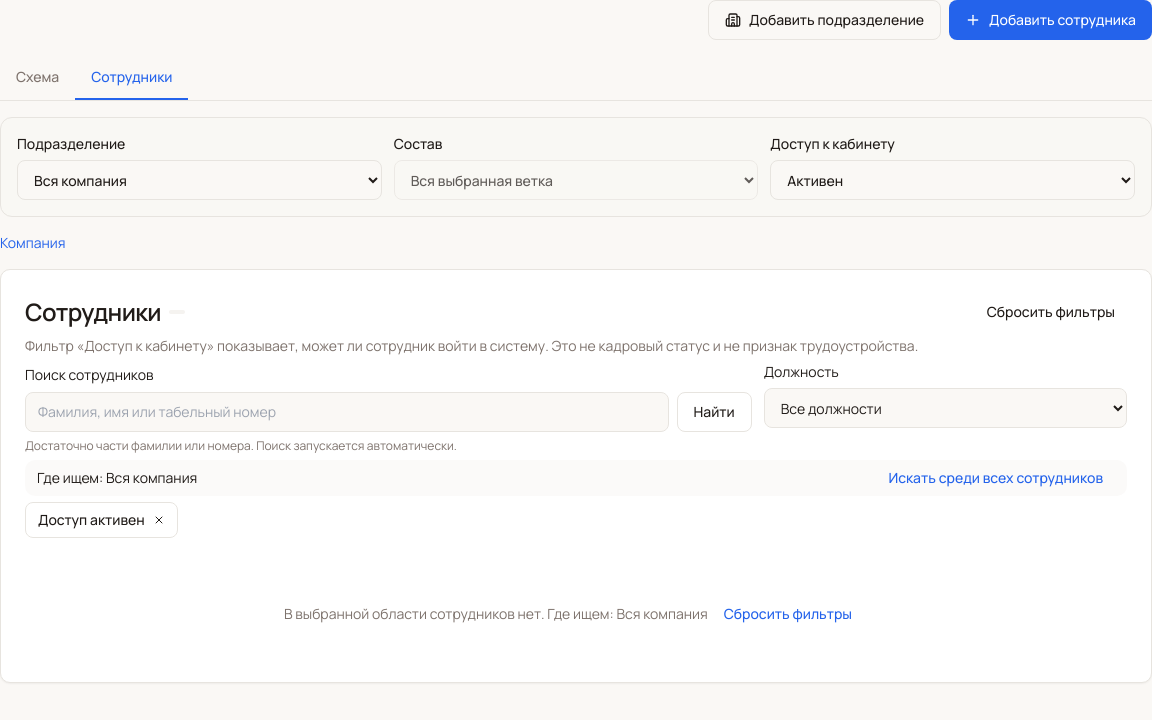
Test: StaffWorkspace › ignores a stale roster response after the account-access filter changes
The image size is (1152, 720).
Select "Закрыт" in the dropdown labelled "Доступ к кабинету": (953, 180) x1=770 y1=160 x2=1135 y2=200
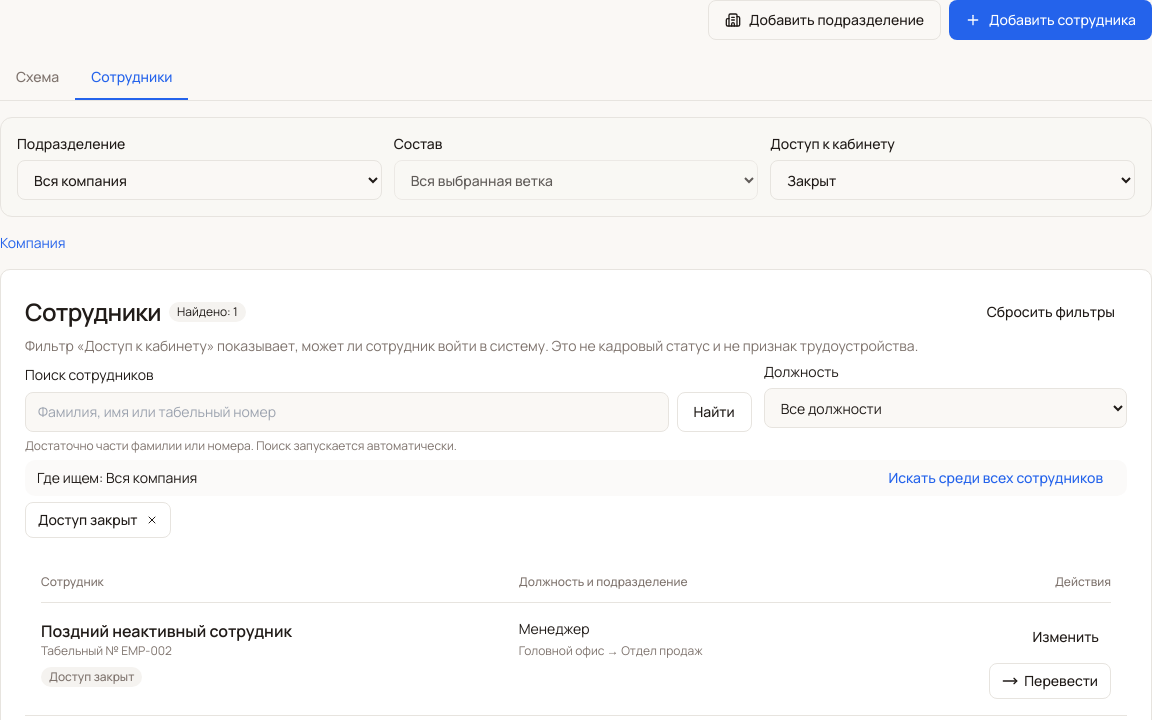
Check: the text "Поздний неактивный сотрудник" is shown, box x1=41 y1=620 x2=292 y2=642
